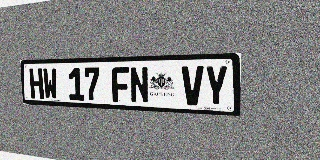1: (68, 68, 84, 101)
7: (83, 67, 101, 101)
F: (111, 67, 130, 103)
H: (29, 68, 44, 99)
N: (130, 67, 149, 103)
V: (182, 66, 204, 106)
W: (42, 68, 58, 100)
Y: (204, 65, 228, 107)
